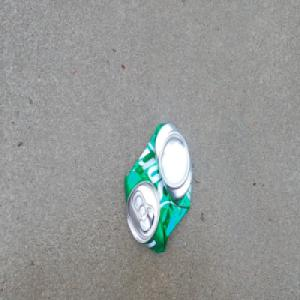SodaCan: (123, 119, 194, 256)
